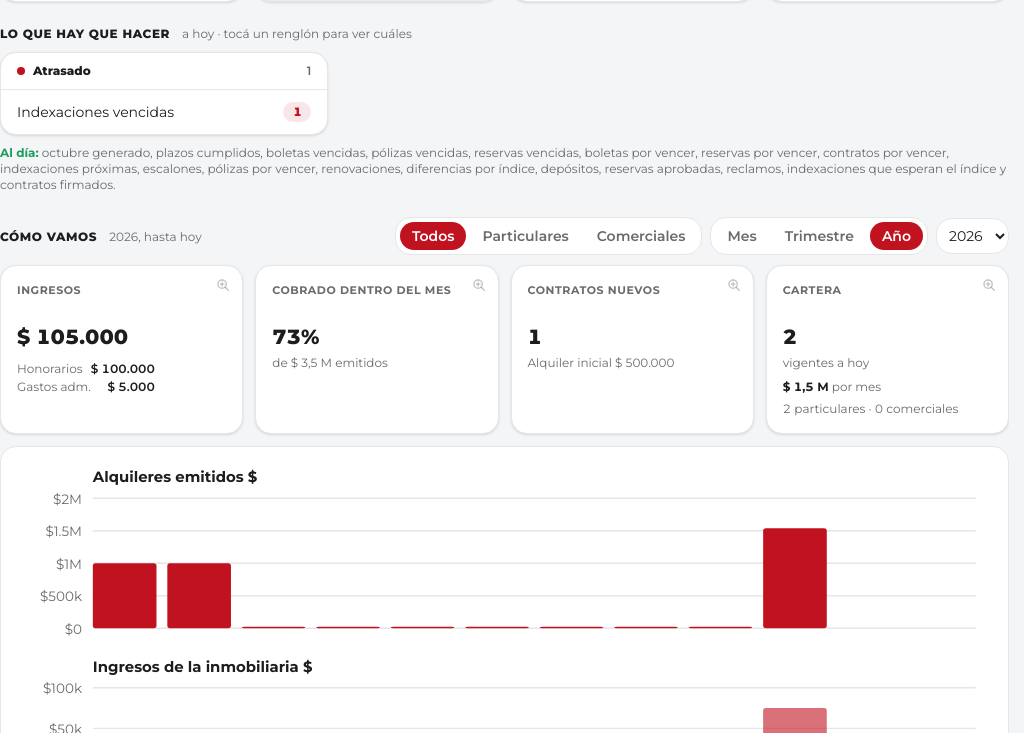
TableroAlquileres en tres bloques (17/10/2026) › Cómo vamos › regla 182: contratos nuevos abre su lista, con el alquiler inicial y su total
(page scrolled)
Click the button with aria-label "Contratos nuevos: 1" at (632, 349), box [512,266,753,433]
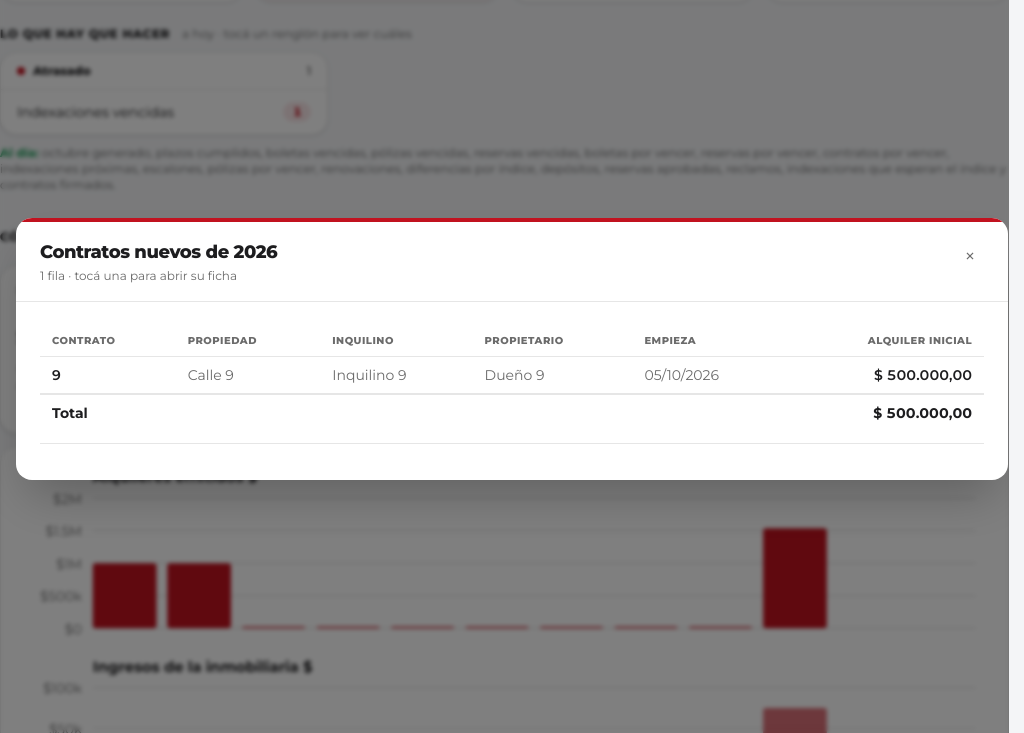
expect the text "9" shows "$ 500.000,00": met, box [874,366,972,384]
